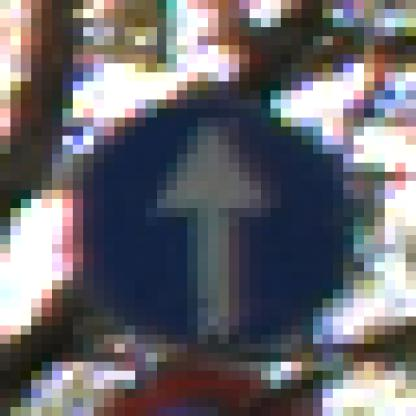AheadOnly: (53, 55, 355, 363)
